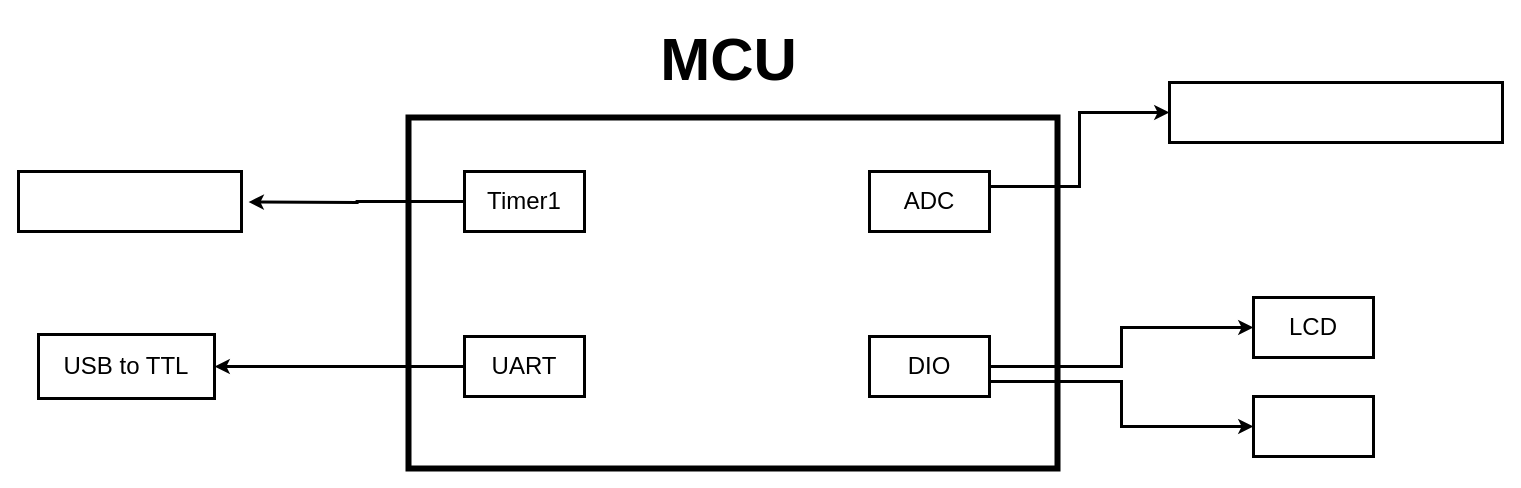
Image size: 1521x488. Some labels were removed from this diagram. Here are the shapes that lost their labels. From the top down, the centre of each, then its label:
At point 1336,112: "Temperature NTC".
At point 129,201: "FreeRTOS".
At point 1313,426: "Red Led".
